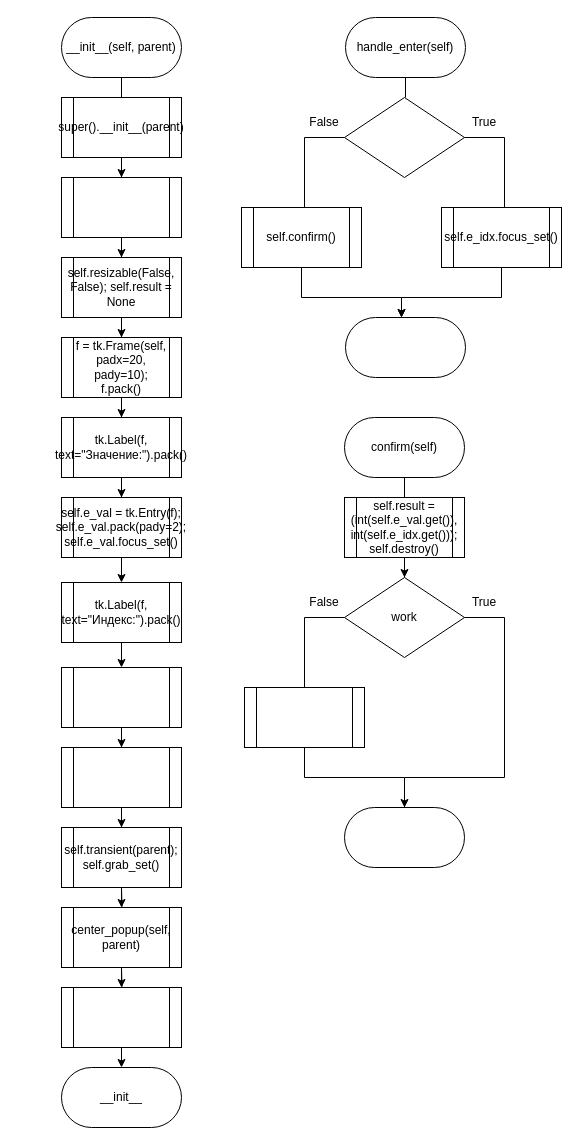
This 579x1145 diagram has some shape labels left out. Here are the shapes that lost their labels. From the top down, the box of each, then its label:
(344, 96, 464, 178): self.focus_get() == self.e_val
(60, 176, 182, 238): self.title("Вставка элемента")
(344, 316, 466, 378): handle_enter
(60, 666, 182, 728): self.e_idx = tk.Entry(f); self.e_idx.pack(pady=2)
(244, 686, 364, 748): ValueError: messagebox.showerror("Ошибка", "Введите числа!", parent=self)
(60, 746, 182, 808): tk.Button(f, text="ОК (Enter)", command=self.confirm).pack(pady=10)
(344, 806, 464, 868): confirm
(60, 986, 182, 1048): self.bind("<Return>", lambda e: self.handle_enter())
